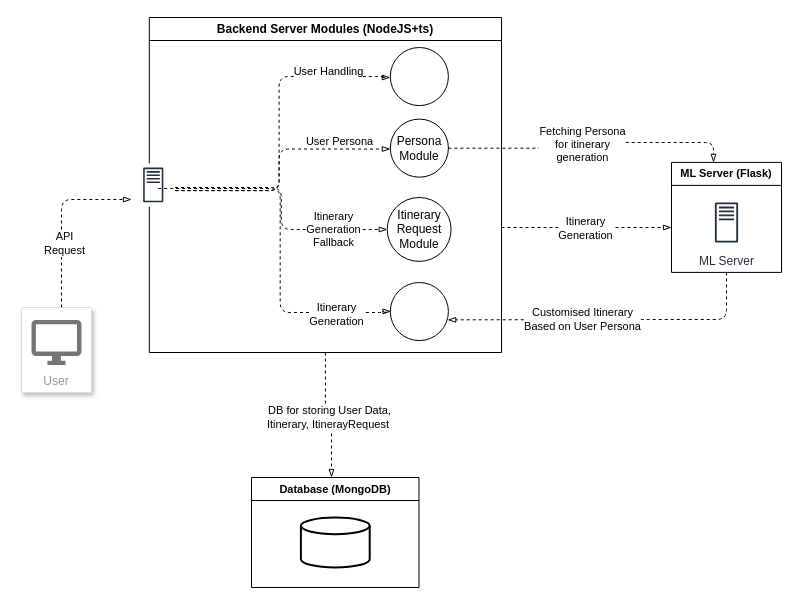
Image size: 799x605. Some labels were removed from this diagram. Each missing label, with the centre of its shape:
"Backend Server" goes at (x=152, y=184).
"Itinerary Module" goes at (x=418, y=311).
"User Module" goes at (x=418, y=76).
